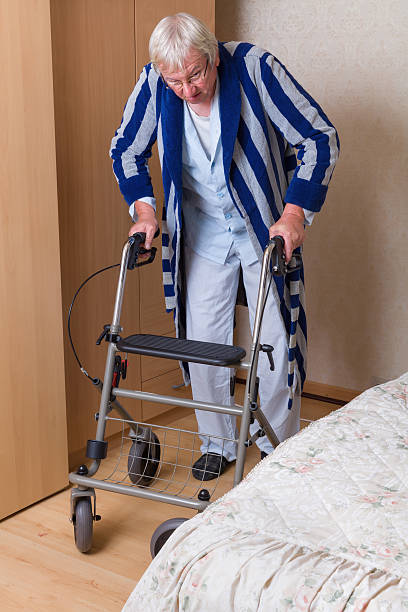walking: (12, 4, 348, 545)
